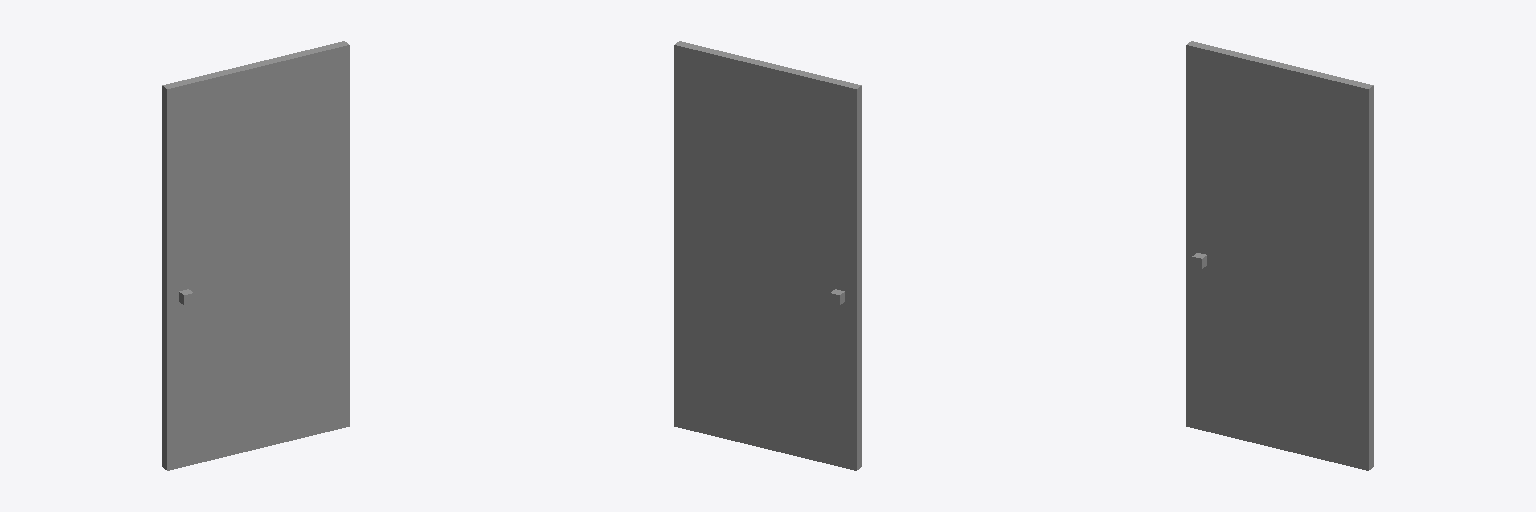
Rendered from door.obj.
3 renders of one model, left to right at view 1: azimuth 30°, elevation 25°; view 2: azimuth 150°, elevation 25°; view 3: azimuth 330°, elevation 25°, orthographic.
Parts seen in each view (by area): view 1: Cube; view 2: Cube; view 3: Cube.
Part boxes in pixels (left/top/right/bottom): Cube: left=162, top=41, right=349, bottom=470; Cube: left=674, top=41, right=861, bottom=470; Cube: left=1186, top=41, right=1373, bottom=470.
Size of the model in its own units: 2 by 4 by 0.3033.